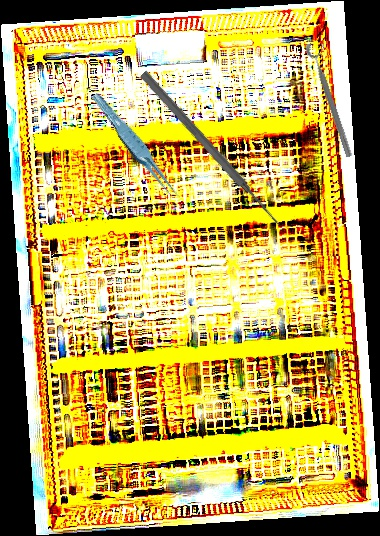Fixation Ring: (304, 39, 362, 159)
Pusher: (137, 69, 285, 230)
Tissue Forceps: (90, 86, 182, 209)
